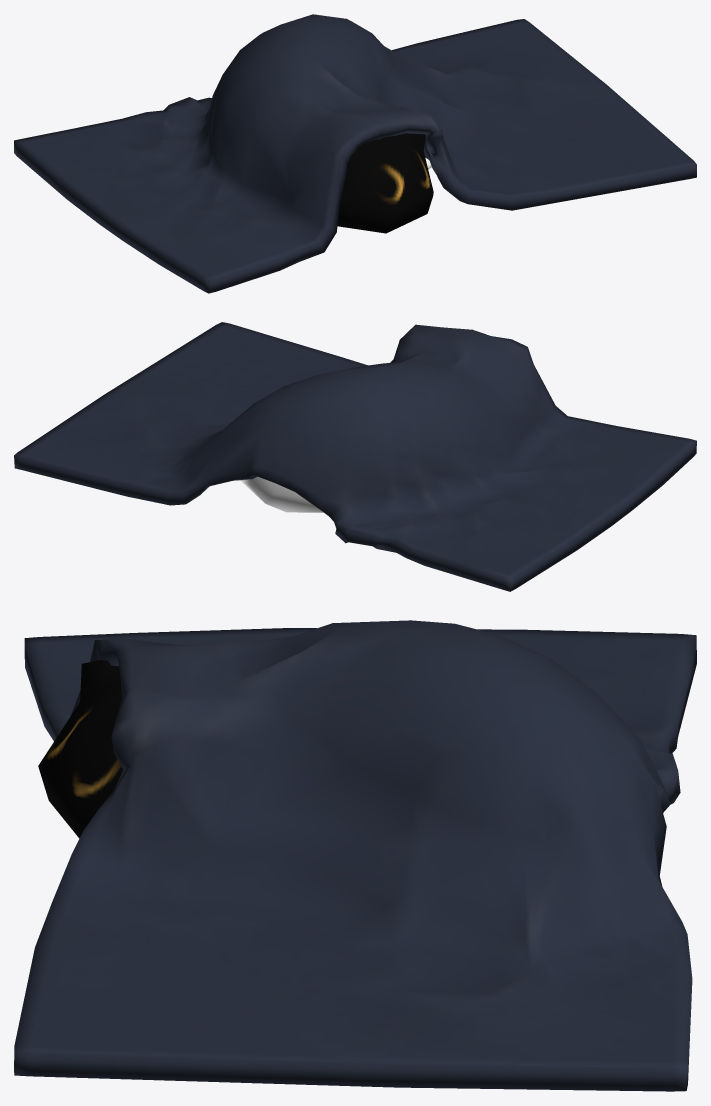
File: cat.lod2.glb
The picture shows the model from 3 angles, top to bottom: view 1: azimuth 30°, elevation 25°; view 2: azimuth 150°, elevation 25°; view 3: azimuth 270°, elevation 25°; orthographic projection. The views are drawn at different scales.
Visible parts, largest first — view 1: Cat in a Blanket.001; view 2: Cat in a Blanket.001; view 3: Cat in a Blanket.001.
Boxes of the visible parts, box(x1,y1,x2,y2) form: Cat in a Blanket.001: box(14, 14, 696, 293); Cat in a Blanket.001: box(14, 322, 696, 591); Cat in a Blanket.001: box(14, 620, 696, 1091).
Size of the model in its own units: 0.4148 by 0.0936 by 0.2714.
3 materials, 2 textured.
